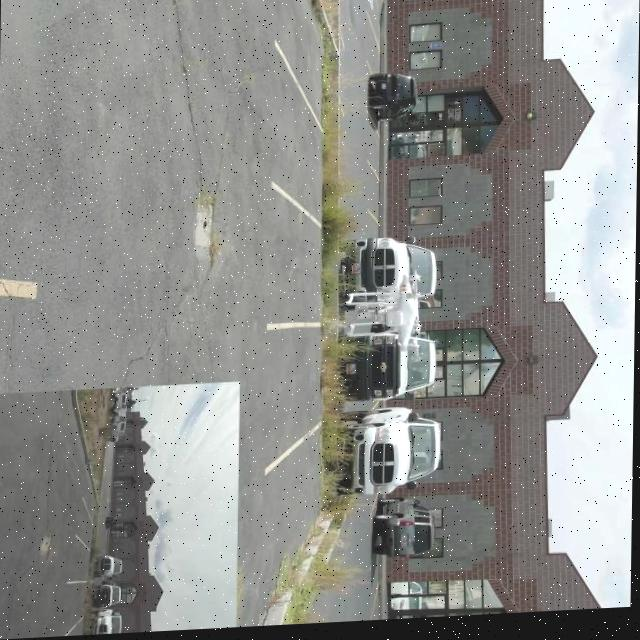drone: (345, 277, 425, 362)
